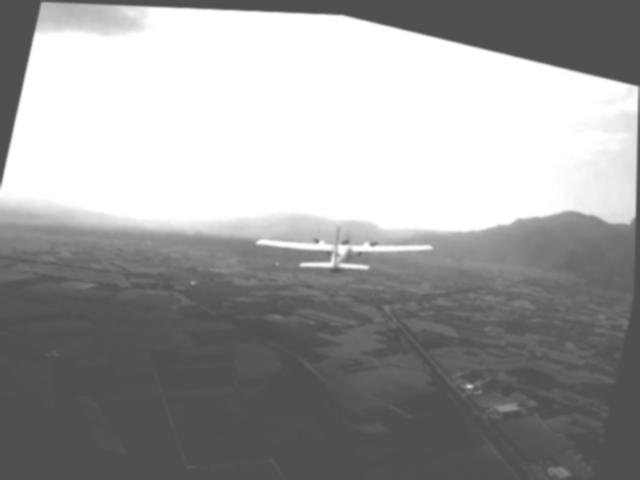hedef: (242, 189, 446, 310)
